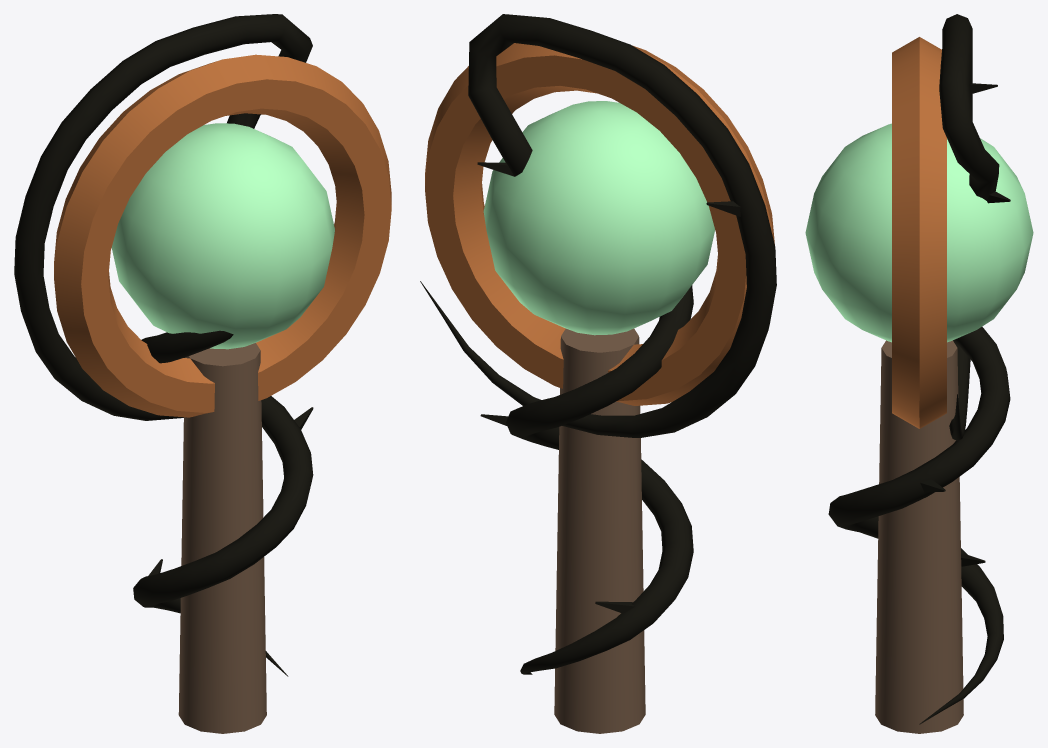
Rendered from verbrambelter_uebersetzer.obj.
3 renders of one model, left to right at view 1: azimuth 30°, elevation 25°; view 2: azimuth 150°, elevation 25°; view 3: azimuth 270°, elevation 25°, orthographic. The views are drawn at different scales.
Visible parts, largest first — view 1: Verbrambelter_Uebersetzer; view 2: Verbrambelter_Uebersetzer; view 3: Verbrambelter_Uebersetzer.
Boxes of the visible parts, left/top/right/bottom form: Verbrambelter_Uebersetzer: left=14, top=14, right=391, bottom=733; Verbrambelter_Uebersetzer: left=420, top=14, right=776, bottom=733; Verbrambelter_Uebersetzer: left=805, top=14, right=1033, bottom=733.
Bounding box in the file's own units: 0.3276 × 0.5933 × 0.18.
